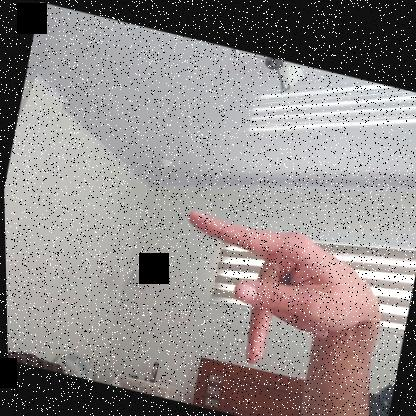P: (158, 202, 392, 390)
